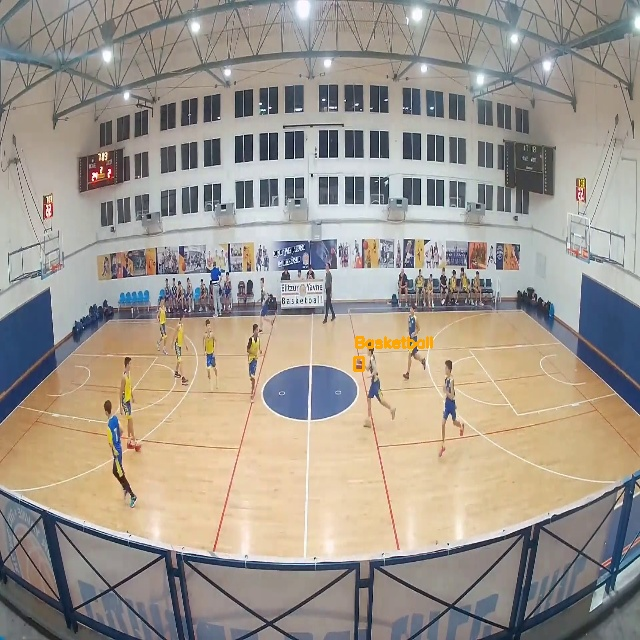Basketball: (354, 357, 363, 370)
